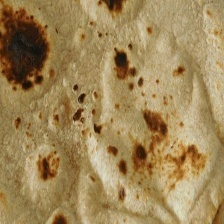roti: (0, 2, 224, 224)
